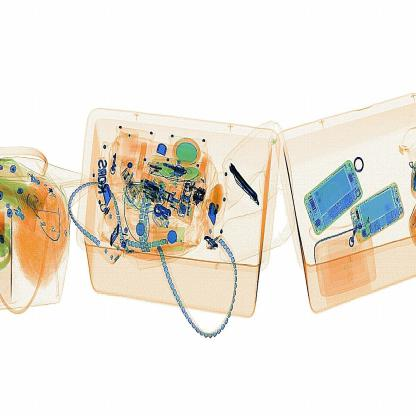knife: (230, 163, 263, 205)
